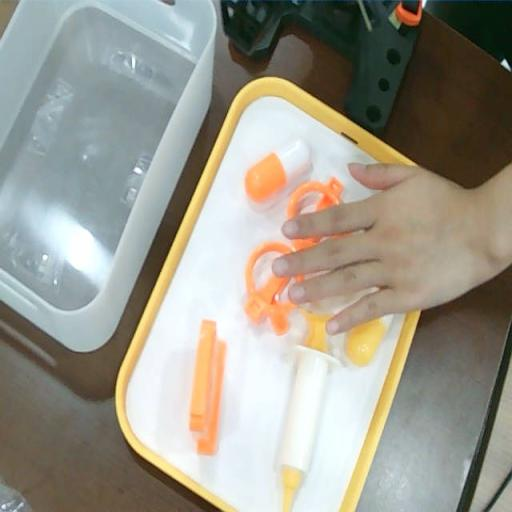hospital: (274, 161, 502, 333)
